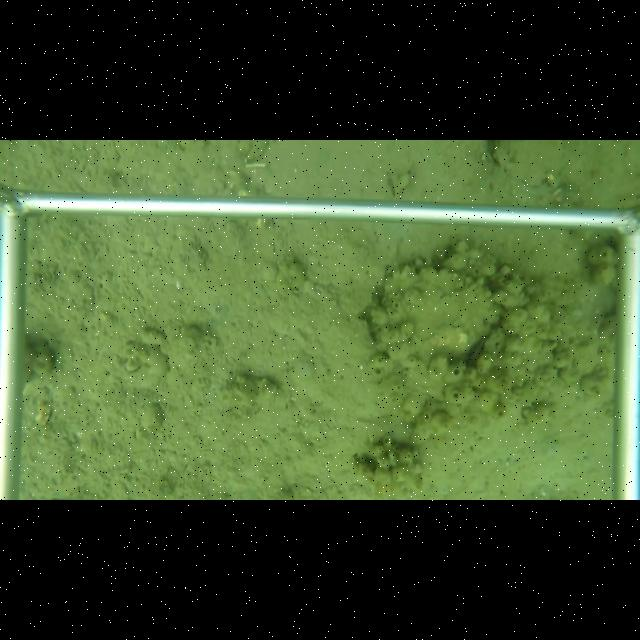Oyster-Closed: (369, 266, 506, 370)
